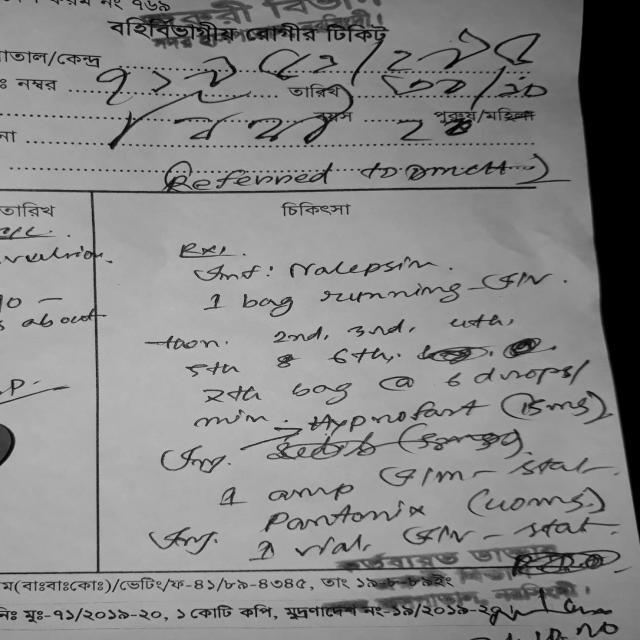medicine: (249, 498, 440, 534), (288, 400, 488, 432), (282, 252, 440, 292)
